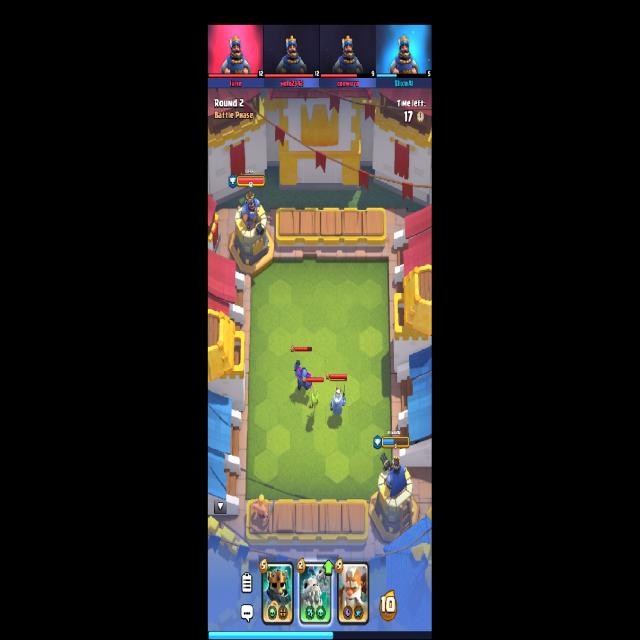barbarian: (252, 495, 276, 524)
card_monk: (337, 562, 369, 624)
card_skeleton_dragon: (299, 561, 332, 625)
card_skeleton_king: (261, 560, 294, 626)
goblin: (307, 384, 320, 409)
pekka: (294, 361, 315, 392)
royal_ghost: (331, 384, 346, 416)
